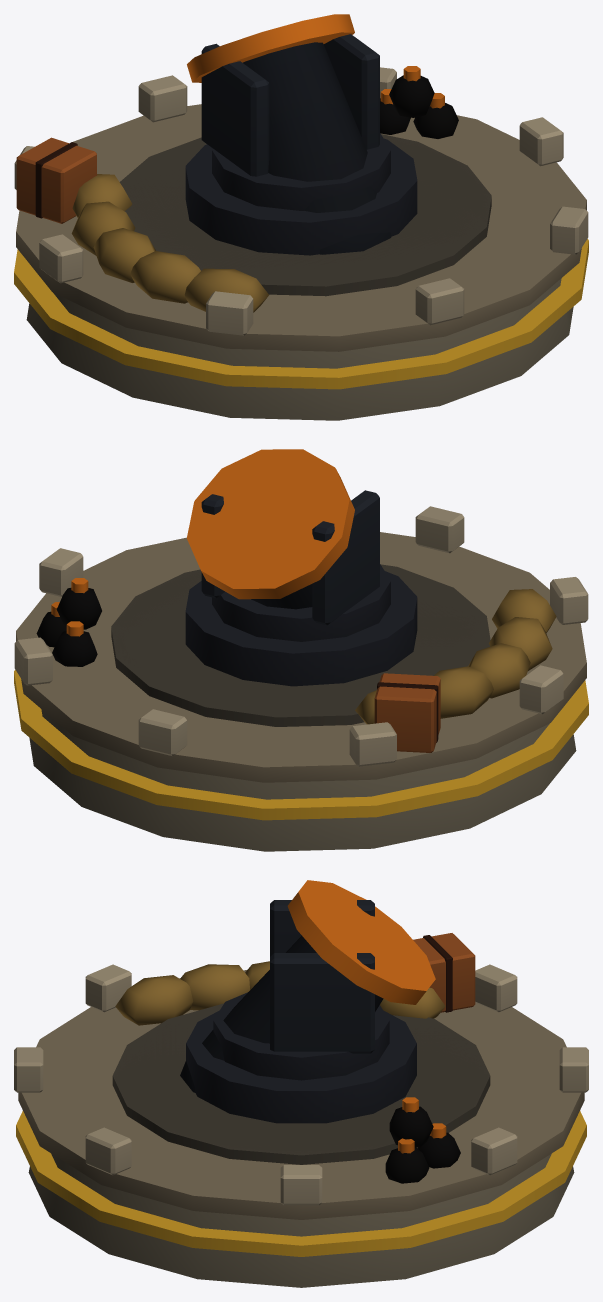
Rendered from b_mortar.glb.
3 views of the same model, one above another, from view 1: azimuth 30°, elevation 25°; view 2: azimuth 150°, elevation 25°; view 3: azimuth 270°, elevation 25° (orthographic).
Visible parts, largest first — view 1: mortar_t1_body, mortar_t2_body, mortar_t1__barrel, mortar_t1__turret; view 2: mortar_t1_body, mortar_t2_body, mortar_t1__barrel, mortar_t1__turret; view 3: mortar_t1_body, mortar_t2_body, mortar_t1__turret, mortar_t1__barrel.
Part boxes in pixels (x1,y1,x2,y2): mortar_t1_body: (14,66,588,420); mortar_t2_body: (14,134,588,389); mortar_t1__barrel: (187,14,391,254); mortar_t1__turret: (201,34,390,210); mortar_t1_body: (14,506,588,851); mortar_t2_body: (14,564,588,820); mortar_t1__barrel: (186,449,354,609); mortar_t1__turret: (201,490,390,641); mortar_t1_body: (14,933,588,1287); mortar_t2_body: (16,1003,586,1256); mortar_t1__turret: (213,900,389,1080); mortar_t1__barrel: (180,880,435,1092).
Size of the model in its own units: 2.74 by 1.48 by 2.74.
